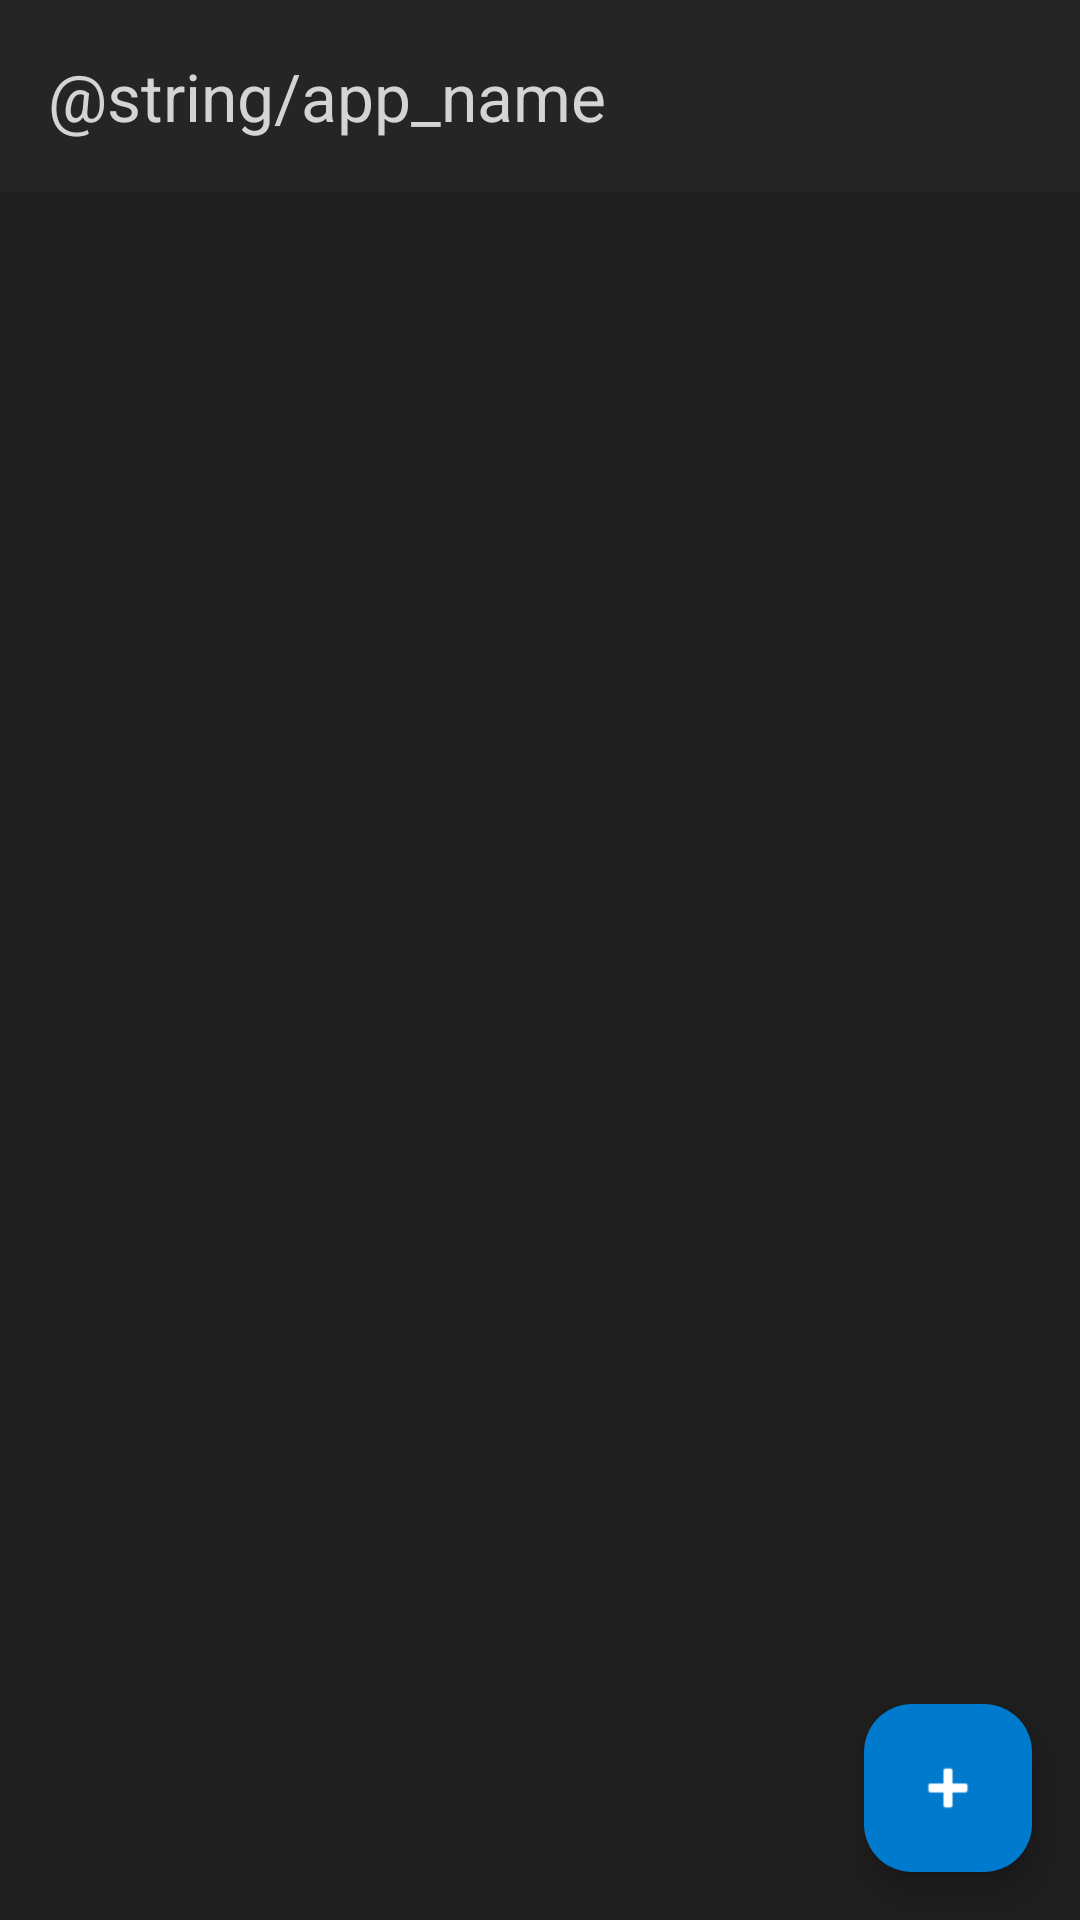

Point at icon controls on the screen. Image size 1080*1920, points as point (x, y).
Add connection: point (948, 1788)
